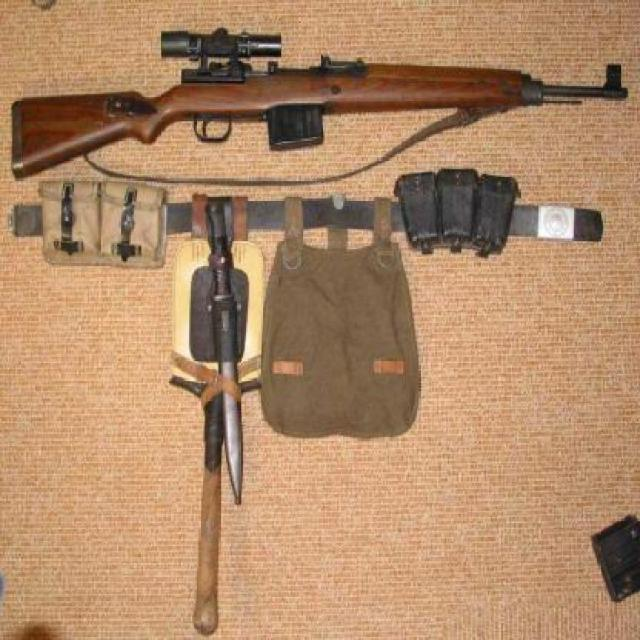Knife: (206, 202, 266, 508)
